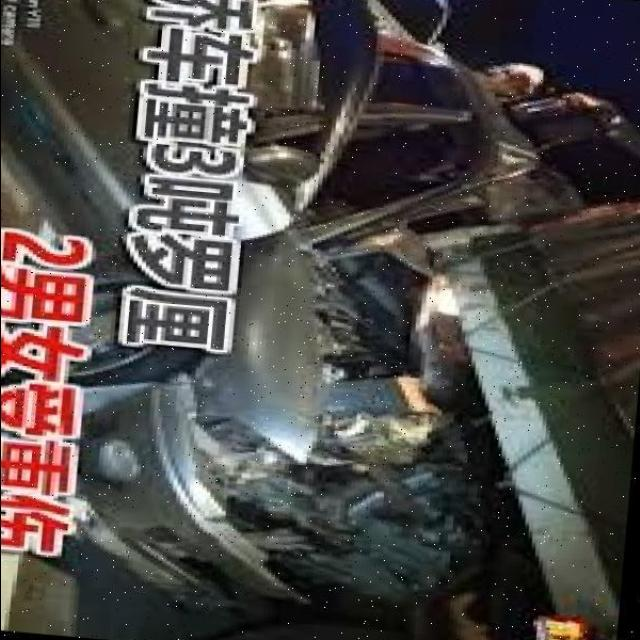accident: (44, 66, 592, 636)
